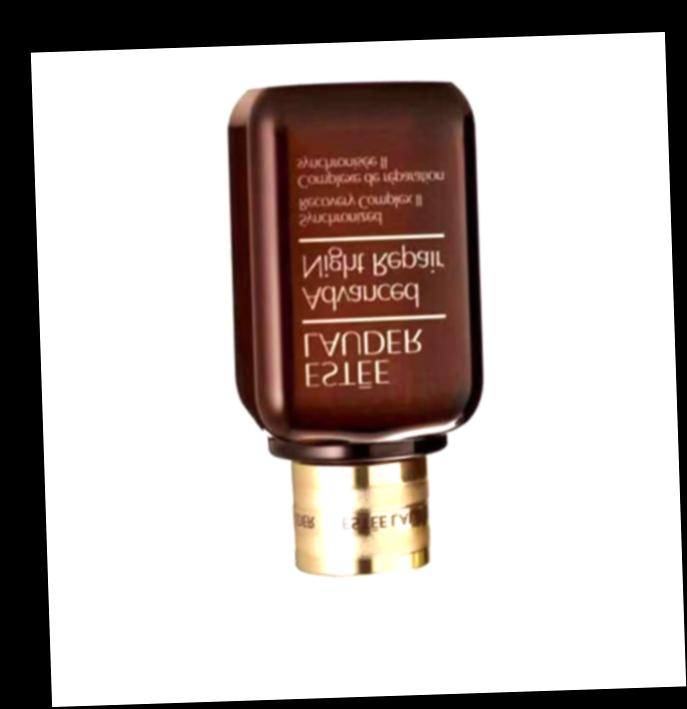cosmetic: (238, 87, 494, 680)
